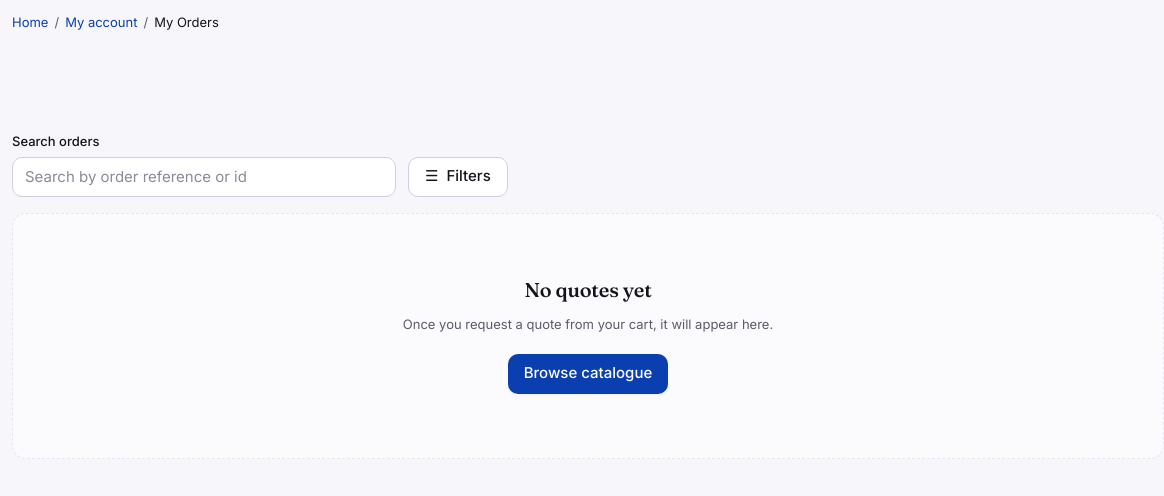
Test: shows search-specific empty copy when a term matches nothing
Type "ZZZNOPE" into the search field labelled "Search orders" at coordinates (204, 176), box [12, 156, 396, 196]
Wait 300 ms
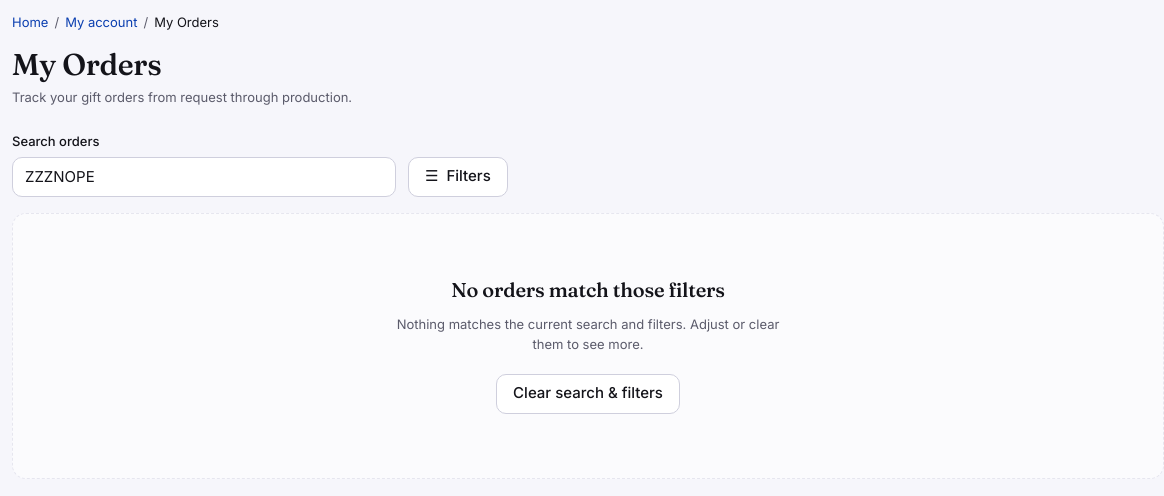
Expected: the heading "No orders match those filters" is shown, [451, 278, 725, 302]
Expected: the button "Clear search & filters" is shown, [496, 374, 680, 414]
Expected: the heading "No quotes yet" is gone
